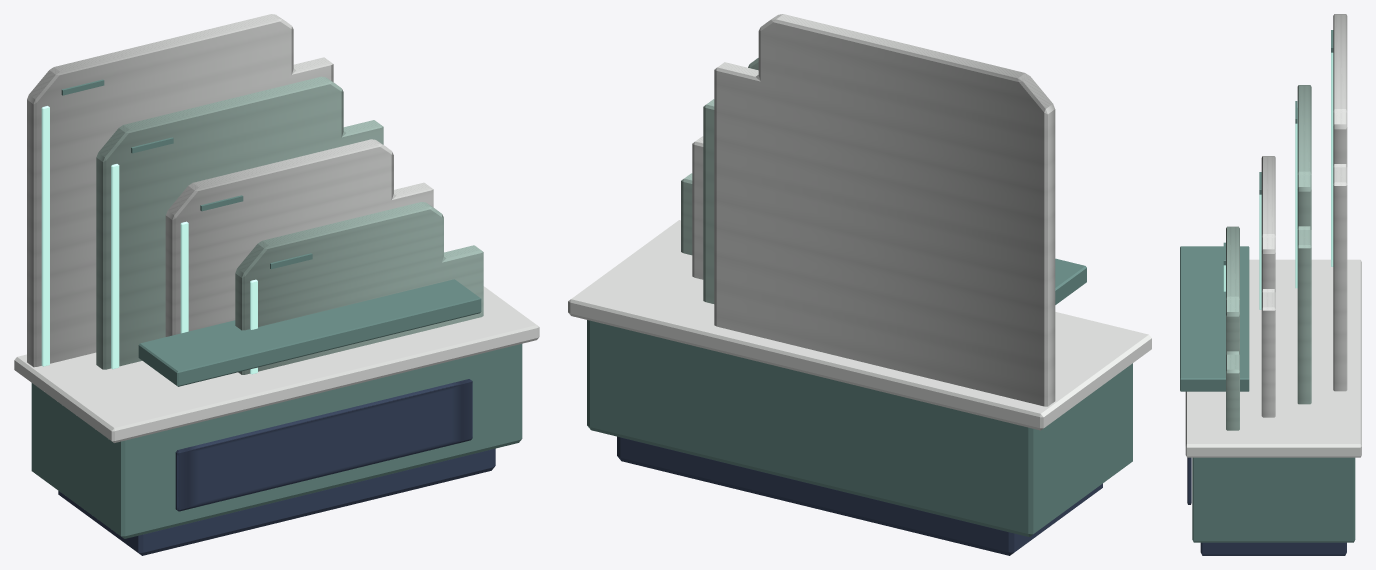
File: balanced.glb
3 views of the same model, side by side, from view 1: azimuth 30°, elevation 25°; view 2: azimuth 150°, elevation 25°; view 3: azimuth 270°, elevation 25° (orthographic). The views are drawn at different scales.
Visible parts, largest first — view 1: Recessed island base, Tall rear index, Second index, Third index, Front index and shelf, Level sample shelf; view 2: Tall rear index, Recessed island base, Second index, Third index, Level sample shelf, Front index and shelf; view 3: Recessed island base, Level sample shelf, Tall rear index, Second index, Third index, Front index and shelf.
Boxes of the visible parts, x1,y1,x2,y2 form: Recessed island base: (14, 286, 539, 555); Tall rear index: (27, 14, 333, 367); Second index: (96, 76, 383, 369); Third index: (165, 139, 433, 336); Front index and shelf: (235, 202, 483, 374); Level sample shelf: (138, 279, 481, 386); Tall rear index: (714, 14, 1055, 406); Recessed island base: (568, 220, 1151, 555); Second index: (703, 58, 758, 303); Third index: (692, 136, 703, 279); Level sample shelf: (1055, 258, 1086, 304); Front index and shelf: (681, 173, 692, 255); Recessed island base: (1185, 259, 1361, 555); Level sample shelf: (1180, 246, 1249, 391); Tall rear index: (1331, 14, 1347, 391); Second index: (1295, 85, 1311, 404); Third index: (1259, 156, 1275, 417); Front index and shelf: (1223, 226, 1239, 430).
Size of the model in its own units: 2.55 by 2.46 by 1.05.
Materials: 1 (1 with a texture image).
